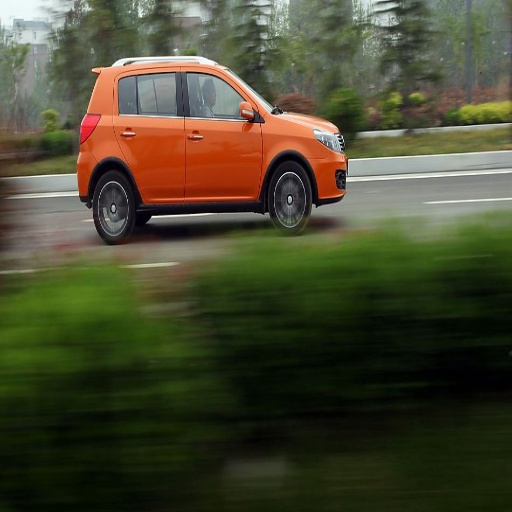back_right_door: (115, 68, 185, 203)
front_right_door: (183, 68, 262, 202)
